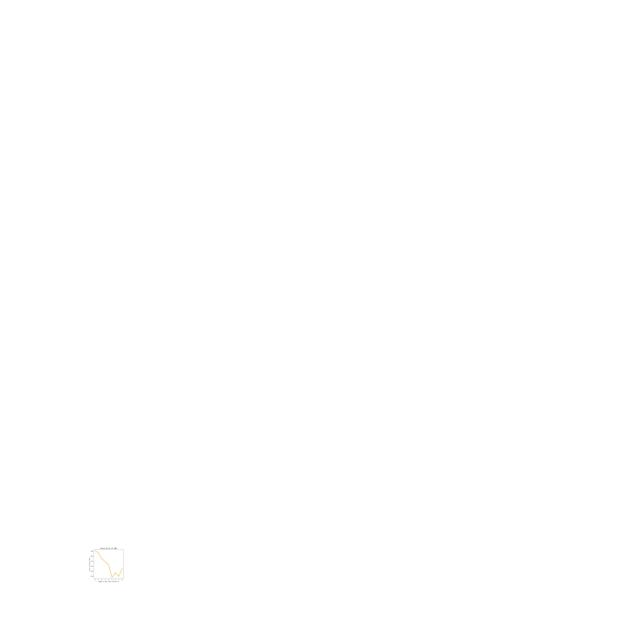Graph: (83, 545, 133, 583)
